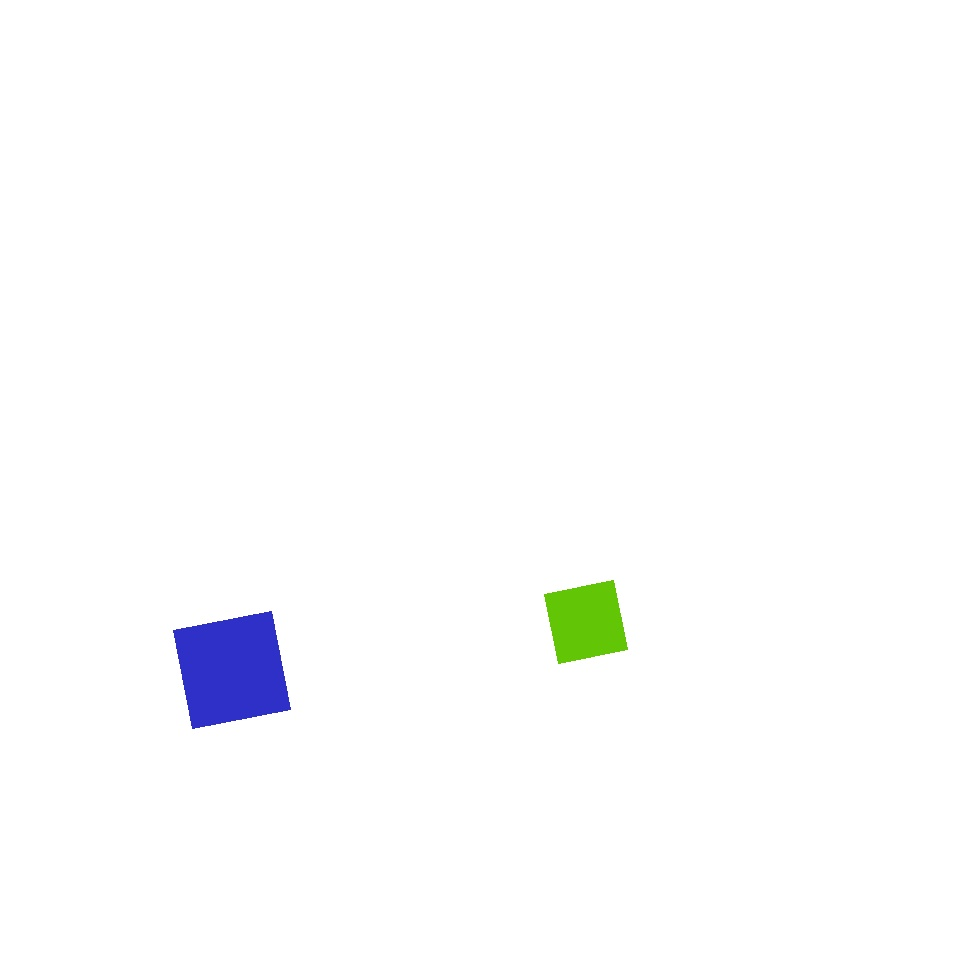square: (532, 490, 858, 816), (650, 165, 838, 354), (174, 612, 290, 728), (545, 580, 628, 664)
triangle: (146, 512, 510, 876)
